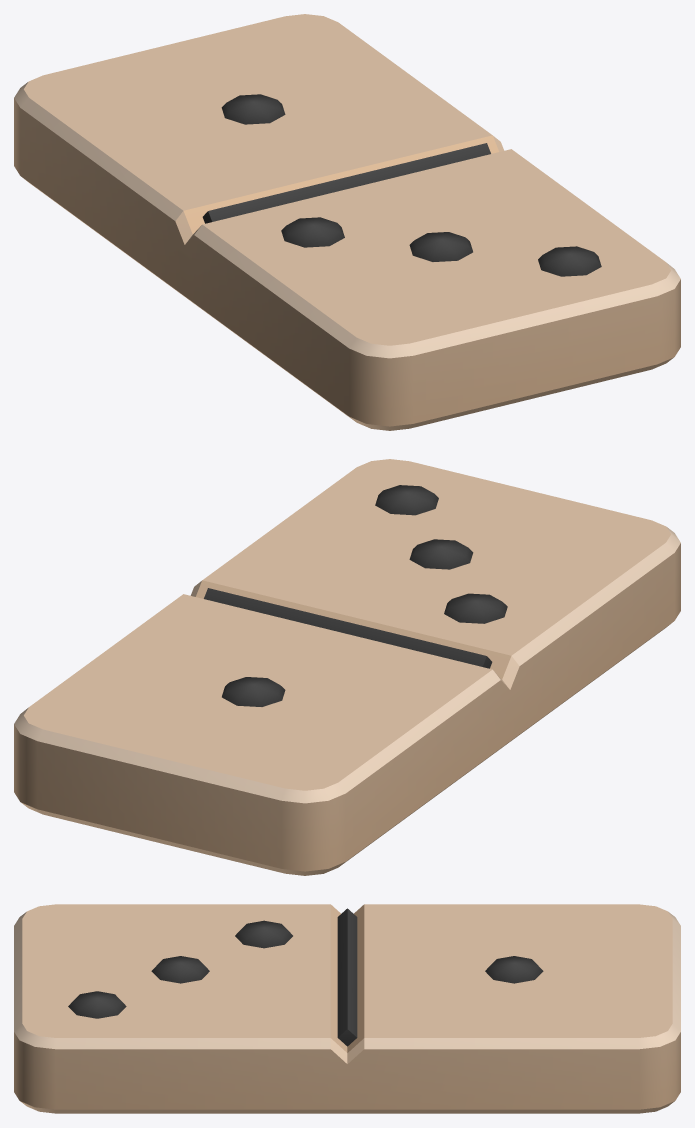
The model's file is domino_tile_1-3.glb.
3 renders of one model, top to bottom at view 1: azimuth 30°, elevation 25°; view 2: azimuth 150°, elevation 25°; view 3: azimuth 270°, elevation 25°, orthographic. The views are drawn at different scales.
Parts seen in each view (by area): view 1: domino_tile_1-3; view 2: domino_tile_1-3; view 3: domino_tile_1-3.
Part boxes in pixels (x1=…): domino_tile_1-3: x1=14, y1=14, x2=680, y2=430; domino_tile_1-3: x1=14, y1=459, x2=680, y2=875; domino_tile_1-3: x1=14, y1=904, x2=680, y2=1113.
Bounding box in the file's own units: 1 × 0.2767 × 2.
1 material, 1 textured.
